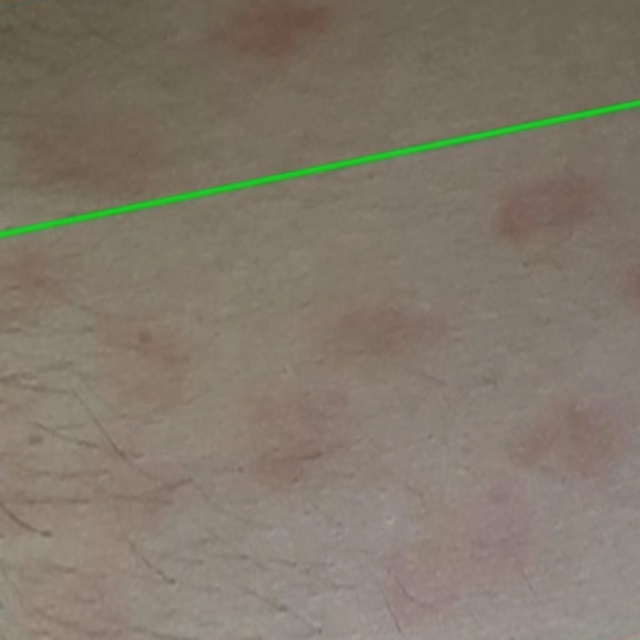Tinea Corporis: (0, 102, 639, 639)
